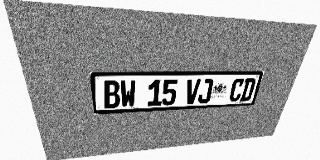1: (147, 80, 163, 106)
5: (162, 79, 178, 105)
B: (103, 80, 120, 109)
C: (228, 78, 245, 102)
D: (239, 78, 257, 101)
J: (197, 79, 214, 104)
V: (184, 79, 201, 104)
W: (120, 80, 136, 108)
